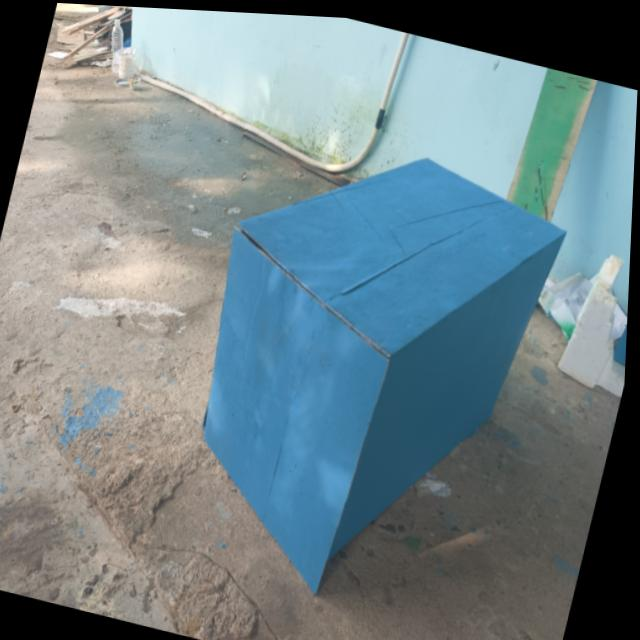blue_box: (129, 97, 581, 625)
